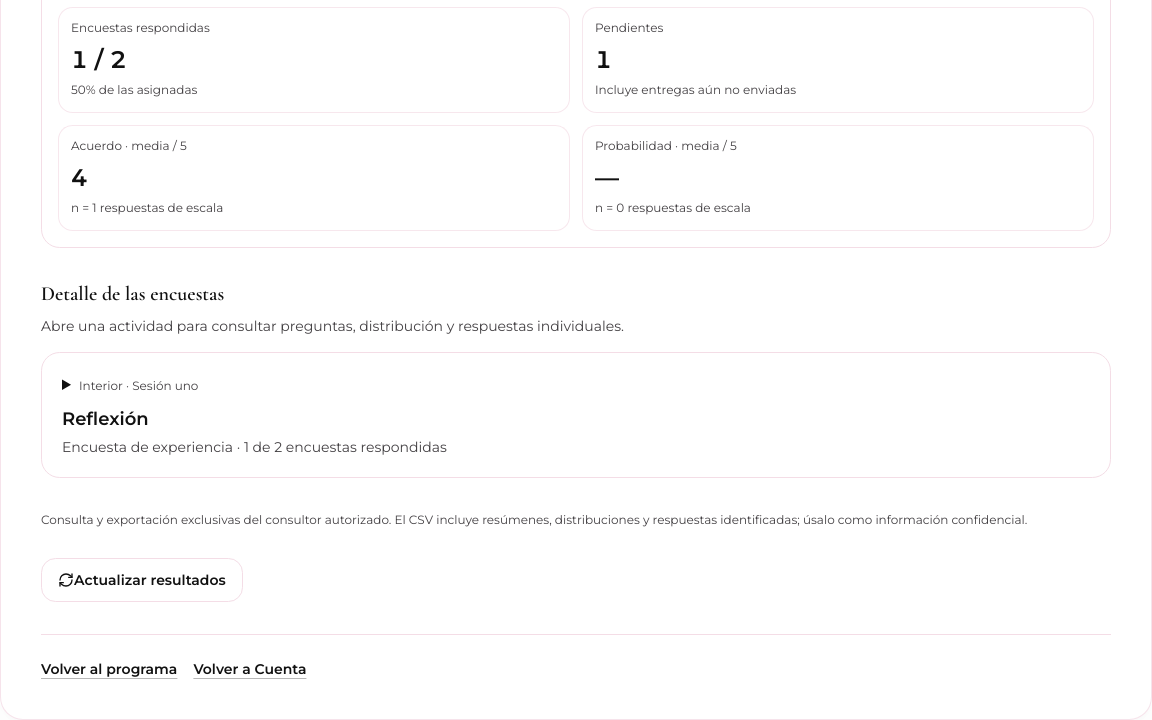
Test: discards old results when reloading fails authorization
(page scrolled)
Click the button "Actualizar resultados" at (142, 580), box [41, 558, 243, 602]
(page scrolled)
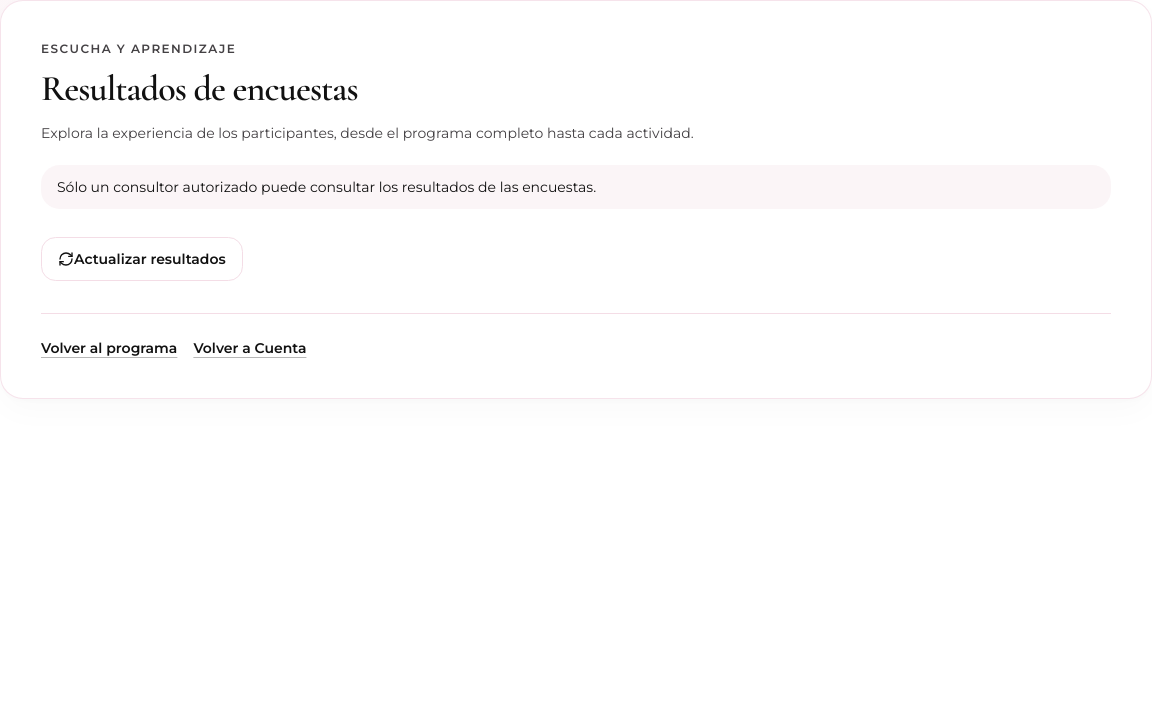
Check: the text "Sólo un consultor autorizado puede consultar los resultados de las encuestas." is shown, box [41, 165, 1111, 209]
